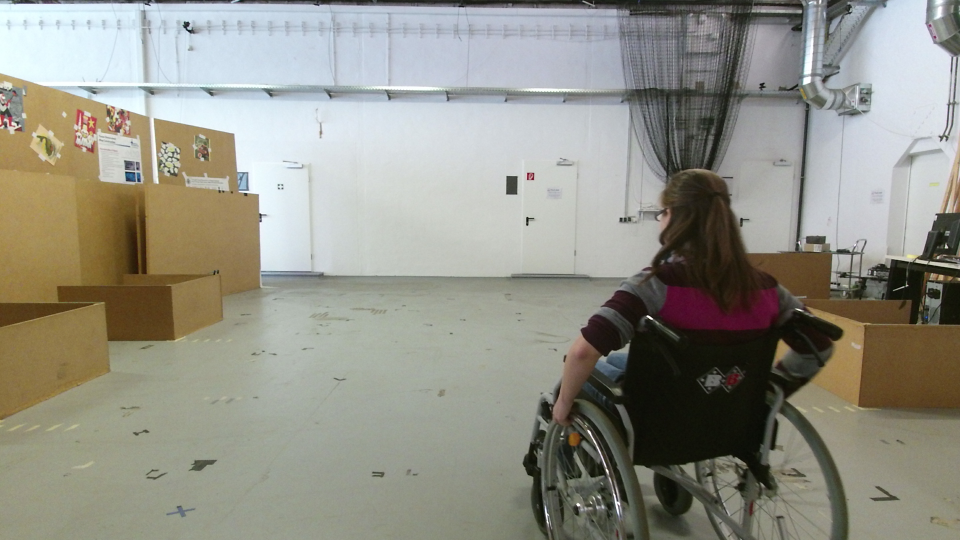wheelchair: (519, 164, 878, 539)
